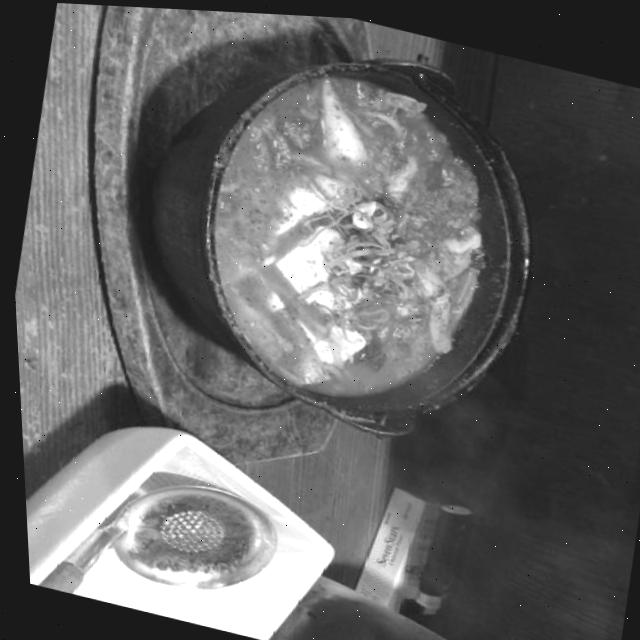汤锅炖物: (182, 33, 566, 429)
